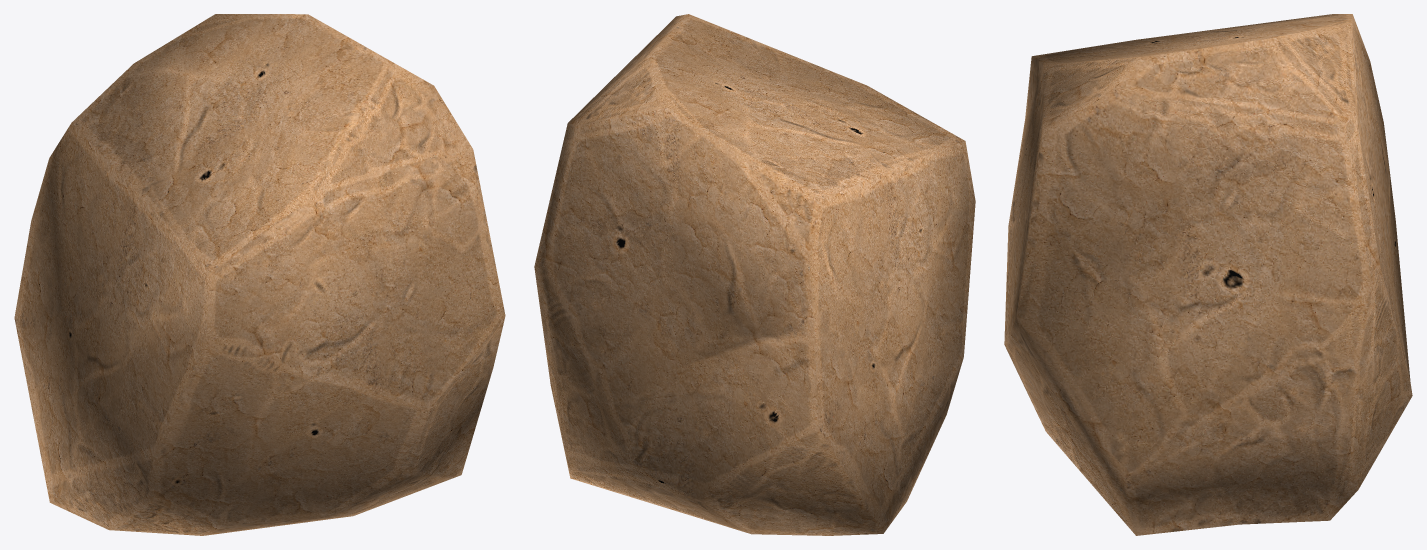
The model's file is low_poly_rock.glb.
3 views of the same model, side by side, from view 1: azimuth 30°, elevation 25°; view 2: azimuth 150°, elevation 25°; view 3: azimuth 270°, elevation 25° (orthographic). The views are drawn at different scales.
Visible parts, largest first — view 1: Object_2; view 2: Object_2; view 3: Object_2.
Part boxes in pixels (bbox=[...]): Object_2: bbox=[14, 14, 505, 535]; Object_2: bbox=[534, 14, 975, 535]; Object_2: bbox=[1004, 14, 1412, 535].
Size of the model in its own units: 1.92 by 2.3 by 1.87.
1 material, 1 textured.
